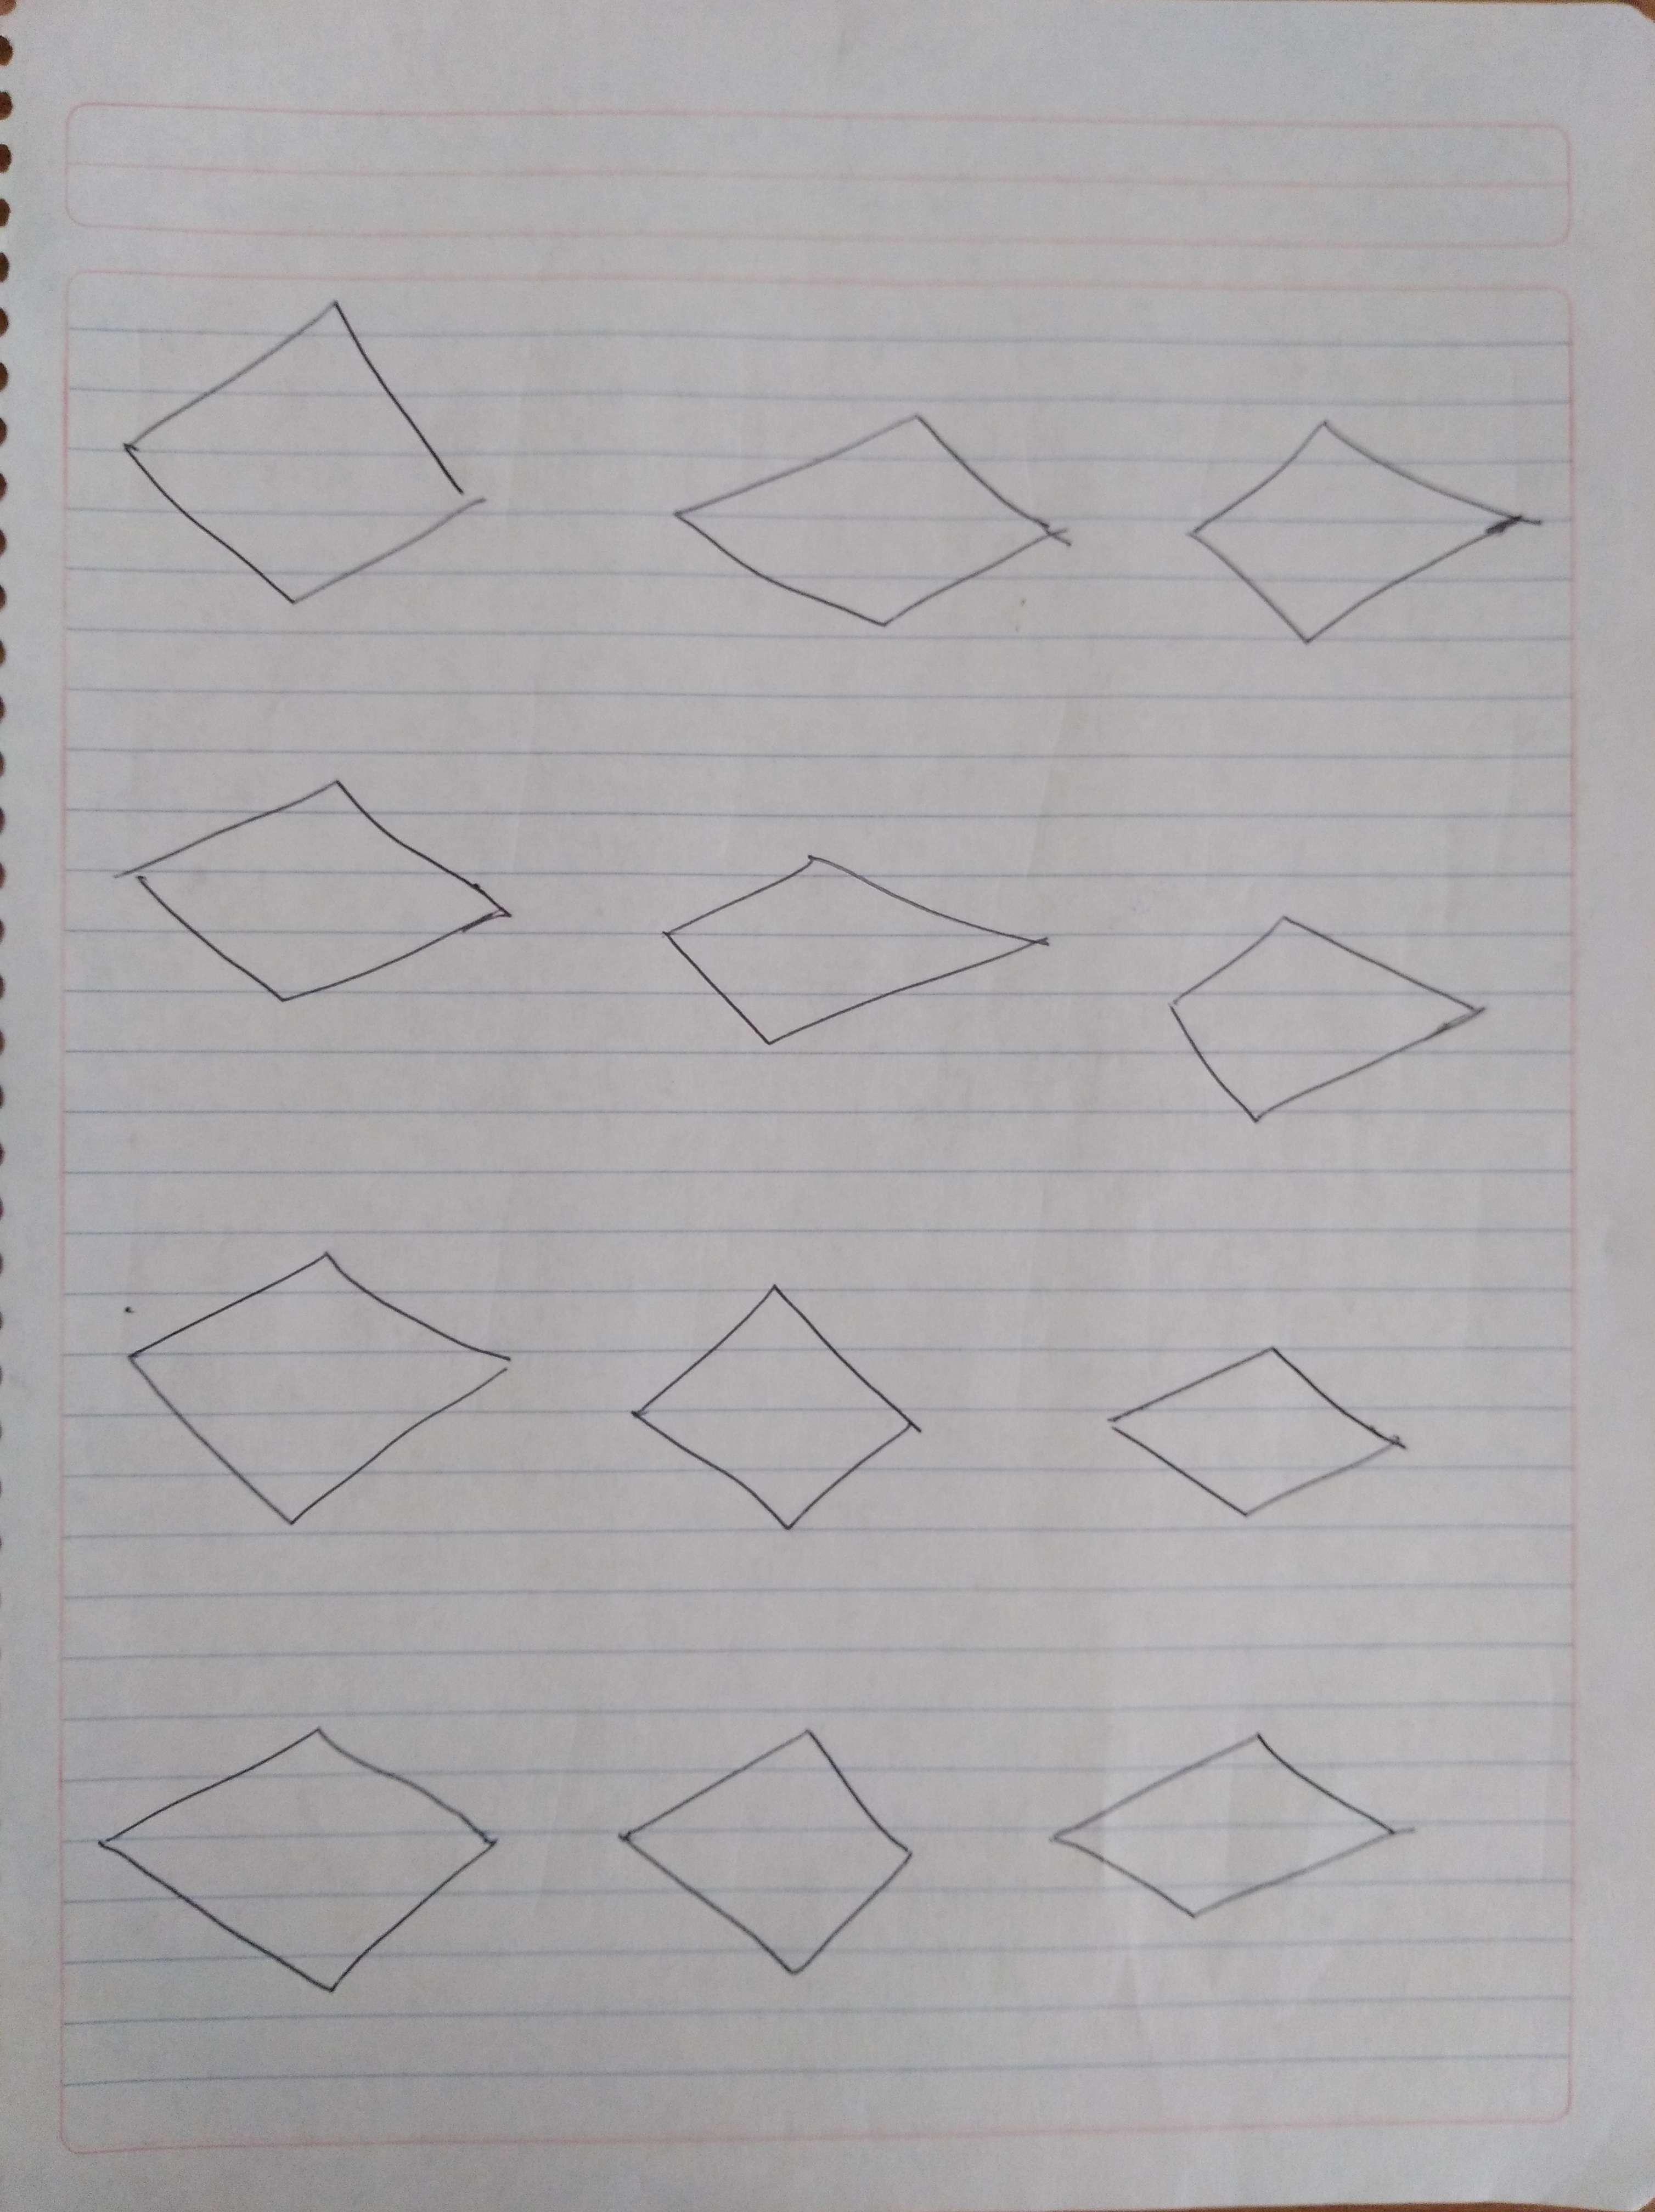decision: (68, 1651, 541, 2042), (643, 301, 1104, 690), (85, 255, 534, 650), (89, 1209, 551, 1555), (1151, 348, 1570, 688), (92, 732, 541, 1048), (619, 784, 1080, 1079), (589, 1665, 946, 2038), (605, 1232, 956, 1573), (1031, 1682, 1439, 1970), (1083, 1246, 1429, 1586), (1137, 851, 1525, 1154)
